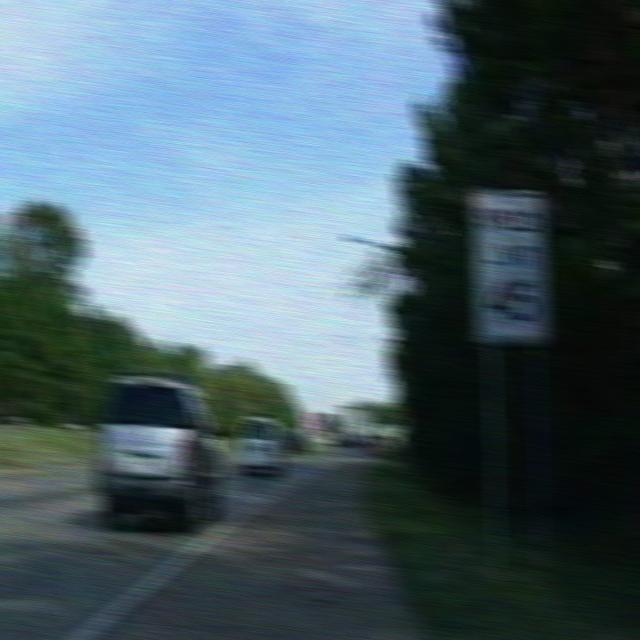speedLimit45: (472, 188, 550, 340)
